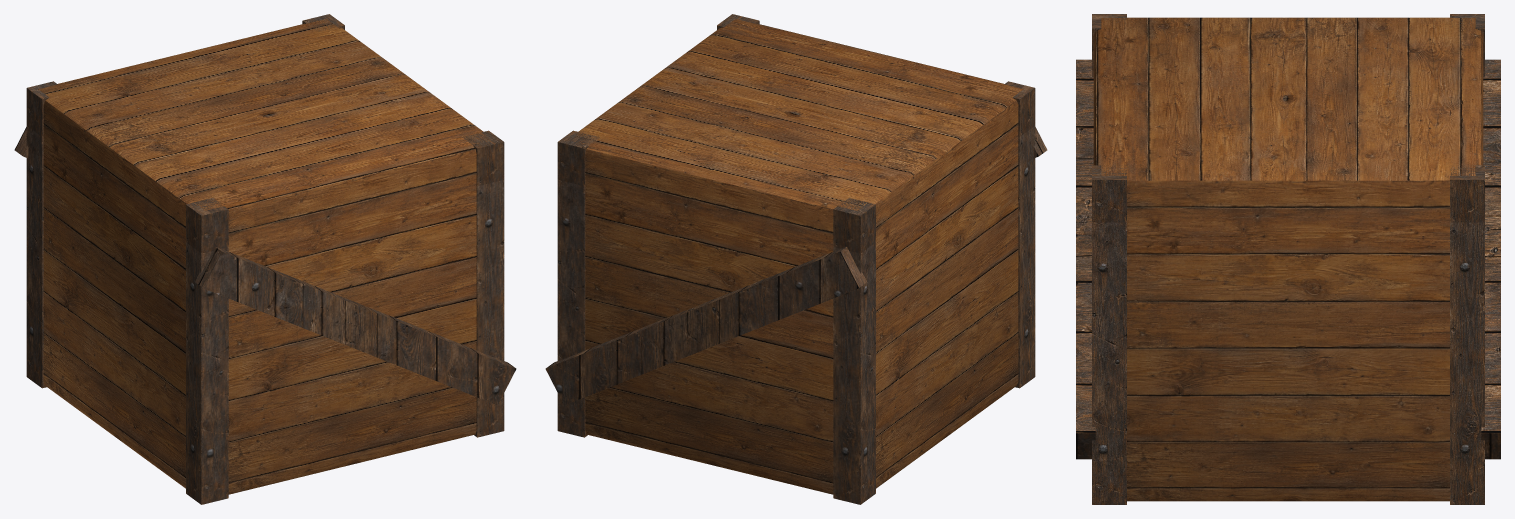
Rendered from crate-v01.glb.
The picture shows the model from 3 angles, left to right: view 1: azimuth 30°, elevation 25°; view 2: azimuth 150°, elevation 25°; view 3: azimuth 270°, elevation 25°; orthographic projection. The views are drawn at different scales.
Parts seen in each view (by area): view 1: crate; view 2: crate; view 3: crate.
Part boxes in pixels (left/top/right/bottom): crate: left=14, top=14, right=516, bottom=504; crate: left=545, top=14, right=1047, bottom=504; crate: left=1076, top=14, right=1500, bottom=504.
Bounding box in the file's own units: 1.04 × 0.92 × 1.09.
Materials: 2 (2 with a texture image).
